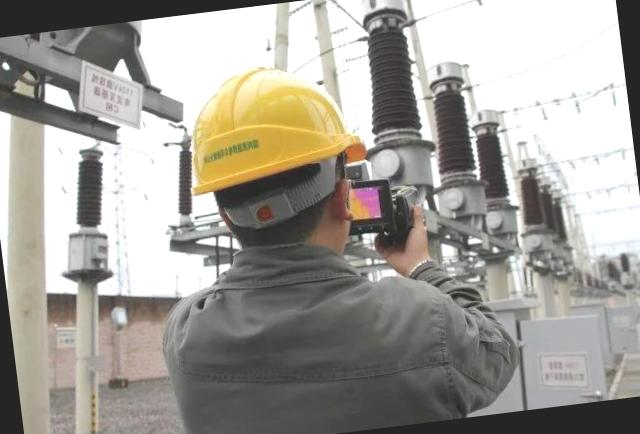helmet: (177, 60, 354, 194)
no_vest: (151, 238, 468, 434)
person: (114, 33, 525, 434)
